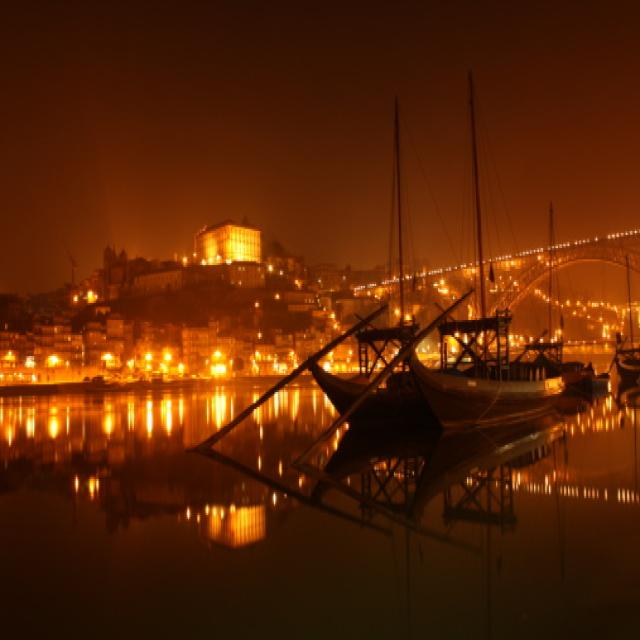Boat: (399, 319, 594, 469), (258, 317, 414, 491), (548, 287, 640, 421)
